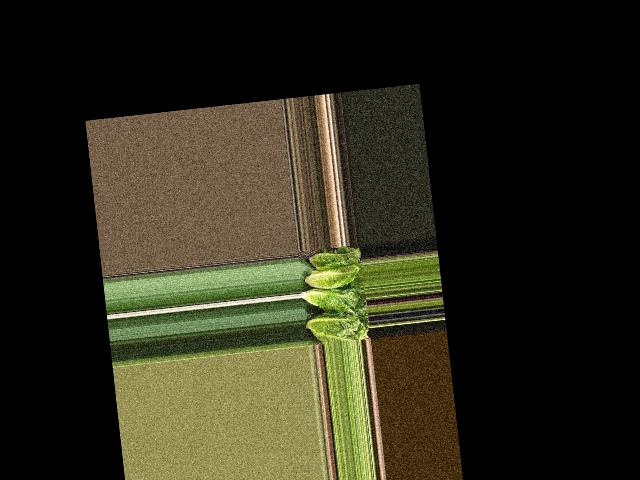lettuce: (310, 248, 362, 269)
